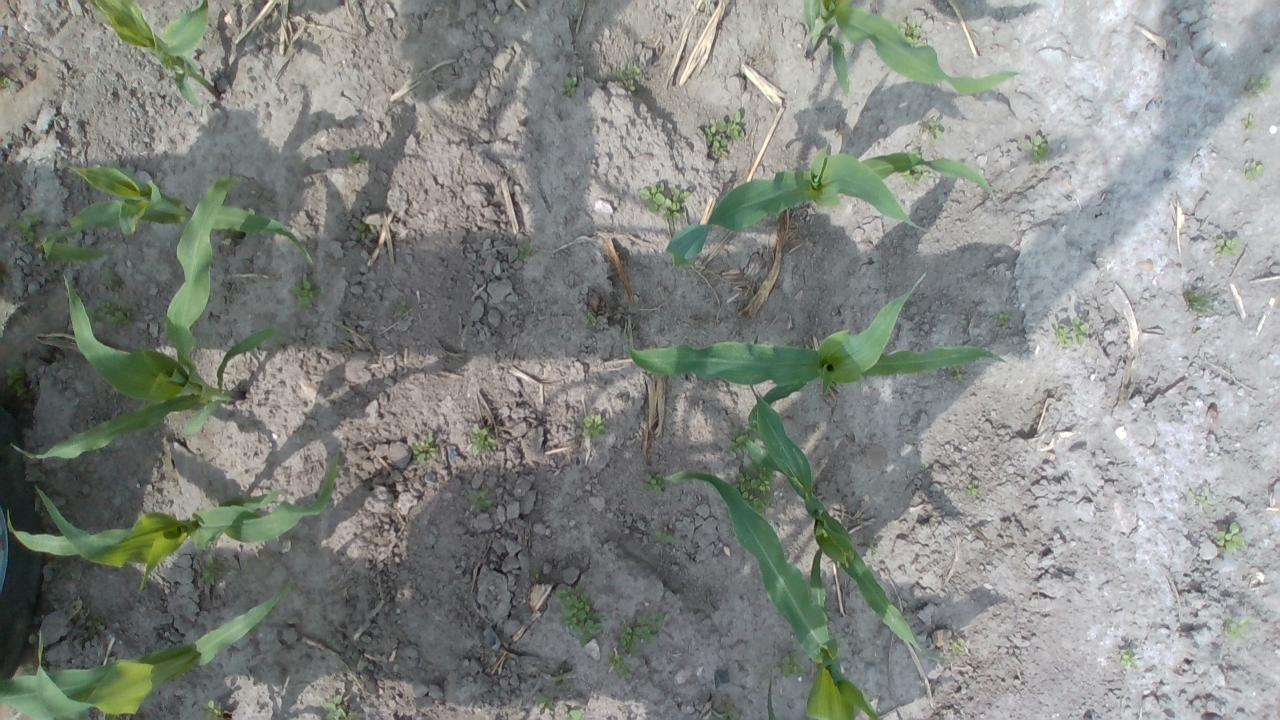Maize: (17, 166, 286, 461), (740, 382, 949, 672), (631, 274, 1006, 426), (664, 469, 883, 720), (6, 451, 342, 587), (0, 588, 286, 720), (658, 141, 999, 232), (39, 164, 313, 265), (805, 0, 1017, 101), (80, 0, 224, 112)
Weeds: (554, 583, 606, 648), (736, 459, 776, 516), (704, 109, 746, 160), (639, 181, 687, 221), (83, 298, 136, 333), (617, 612, 661, 654), (288, 273, 324, 310), (890, 16, 926, 48), (1052, 316, 1090, 346), (728, 419, 760, 454), (1216, 520, 1246, 554), (774, 650, 807, 679), (580, 413, 610, 444), (1184, 288, 1216, 316), (14, 210, 40, 244), (1222, 612, 1252, 640), (410, 433, 438, 463), (1021, 134, 1050, 162), (606, 649, 634, 678), (616, 61, 644, 90), (1242, 75, 1274, 100), (469, 426, 496, 455), (557, 75, 582, 106), (532, 690, 558, 716), (468, 488, 494, 514), (98, 264, 122, 292), (1194, 486, 1218, 514), (199, 552, 219, 584), (902, 164, 931, 186), (323, 694, 347, 720), (1215, 236, 1242, 259), (924, 117, 944, 146), (641, 471, 665, 494), (714, 702, 744, 720), (200, 699, 222, 720), (1118, 648, 1138, 668), (1243, 160, 1264, 179), (352, 220, 373, 239), (950, 636, 969, 656), (654, 526, 675, 544), (516, 241, 534, 262), (1240, 114, 1260, 131), (346, 149, 364, 167), (561, 704, 580, 720), (582, 311, 598, 329), (992, 311, 1011, 326), (964, 481, 980, 497), (868, 538, 881, 556), (396, 300, 410, 316), (952, 368, 966, 384), (552, 673, 570, 683), (909, 148, 922, 160), (246, 207, 256, 216), (1, 76, 10, 86)
